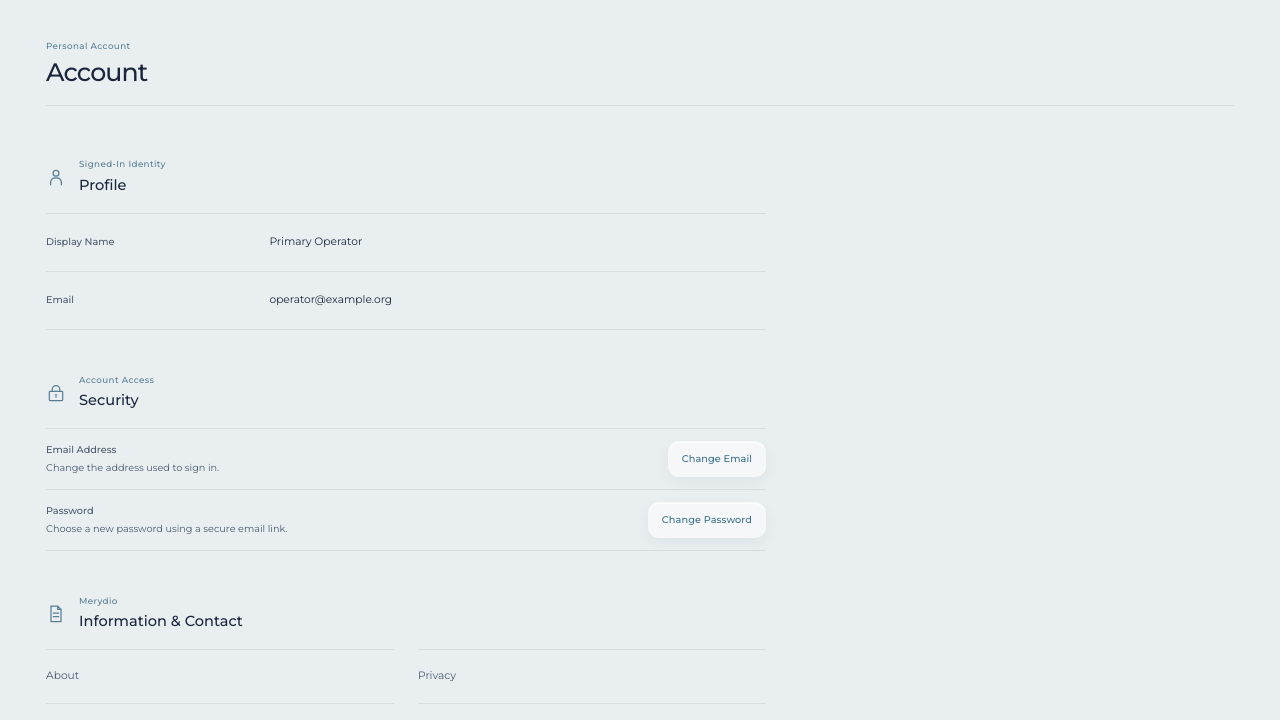
Test: account page › keeps Change Email open while a request is being submitted
This screenshot has width=1280, height=720.
Click the button "Change Email" at (717, 459), box [668, 441, 766, 477]
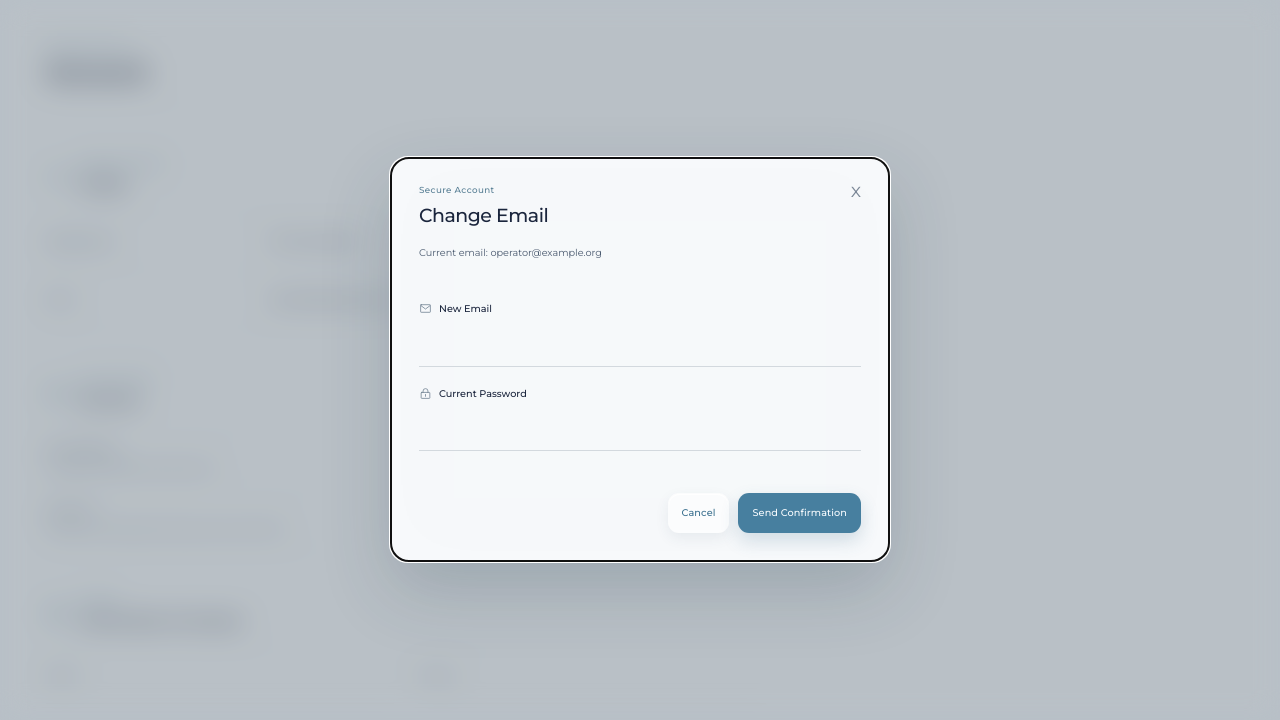
Type "new@example.org" into the field labelled "New Email" at (640, 345), box [419, 323, 861, 367]
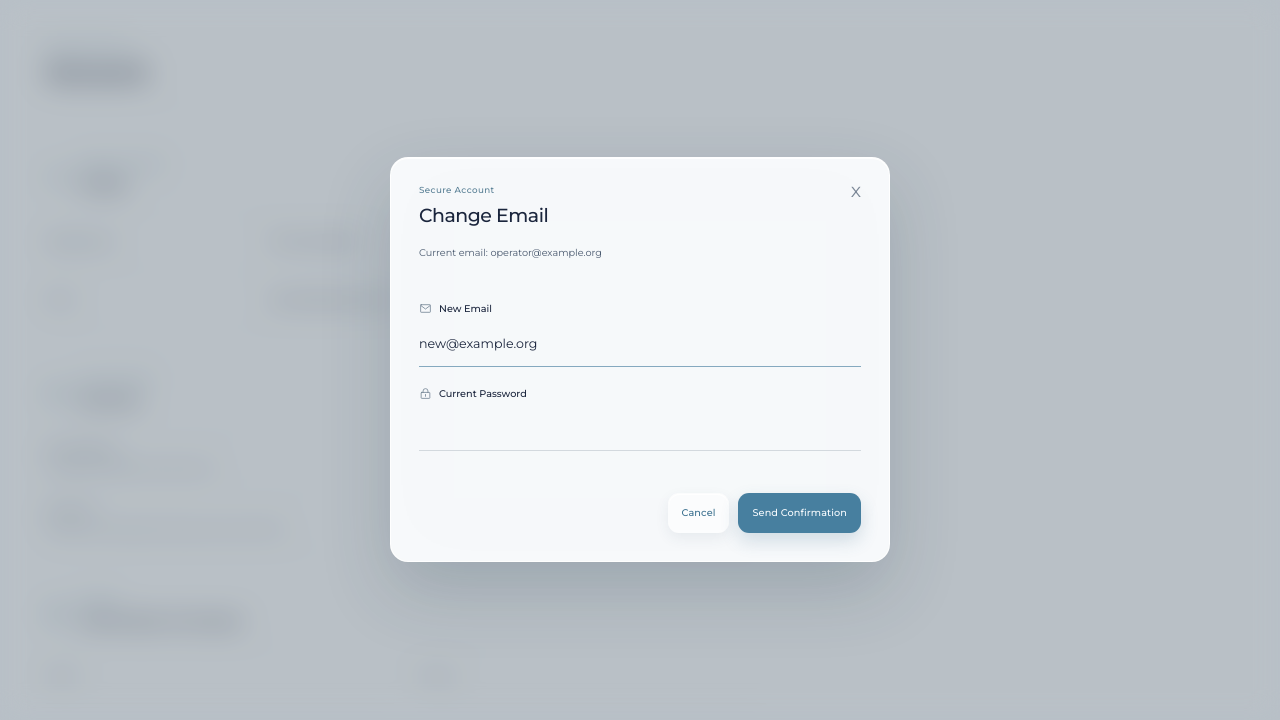
Type "current-password" into the password field labelled "Current Password" at (640, 430), box [419, 408, 861, 452]
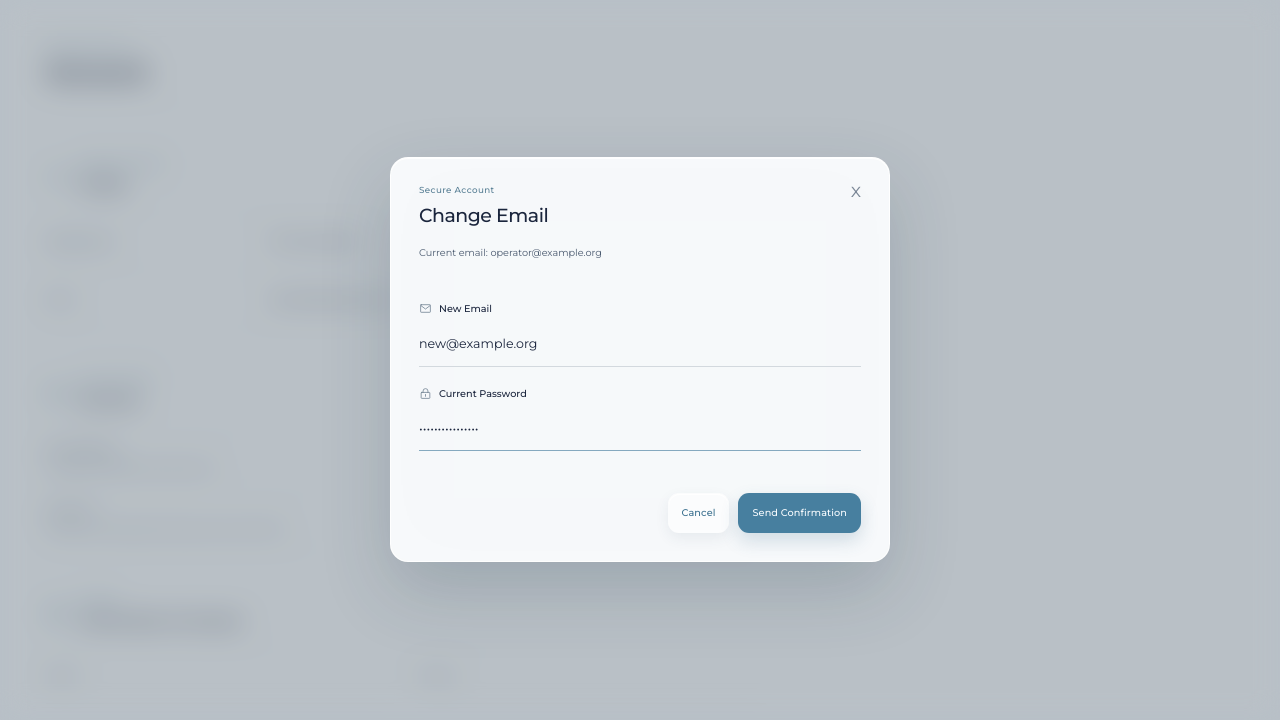
Click the button "Send Confirmation" at (800, 514), box [738, 494, 861, 534]
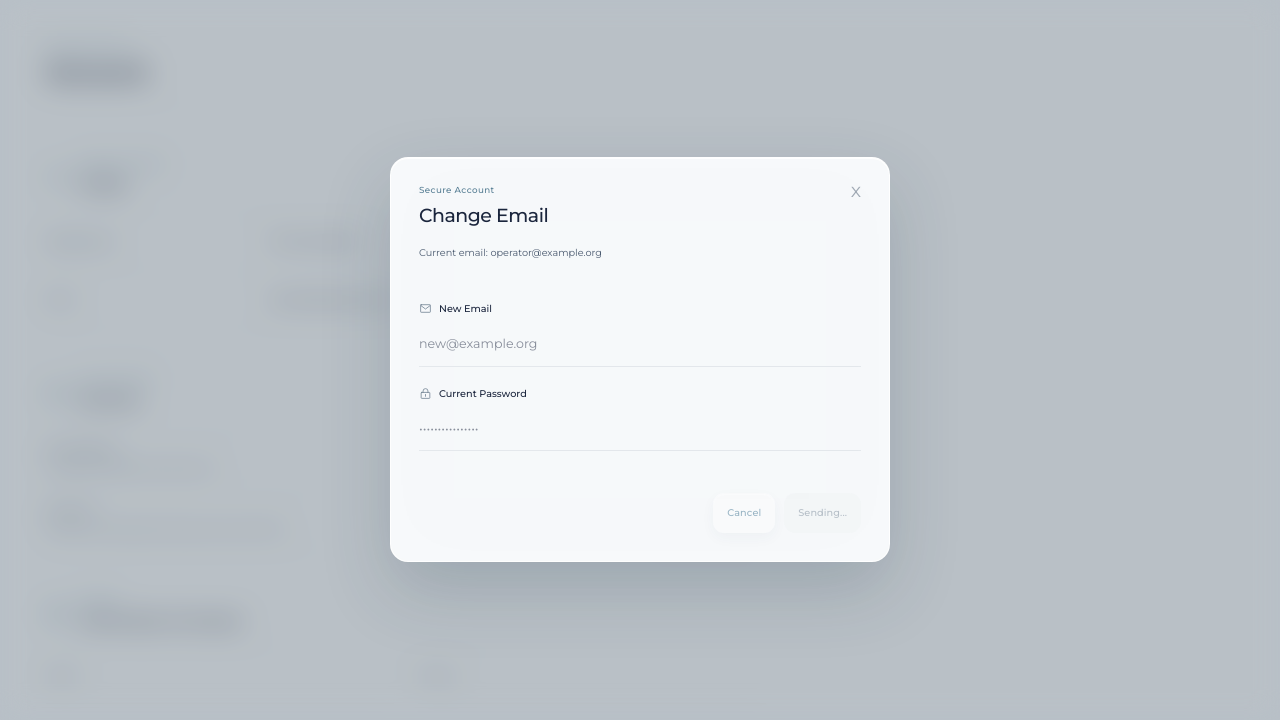
Expected: the button "Sending..." is disabled, [784, 494, 861, 534]
Press Escape
Press the mouse on the element with class "modal-backdrop" at (640, 360), box [0, 0, 1279, 719]
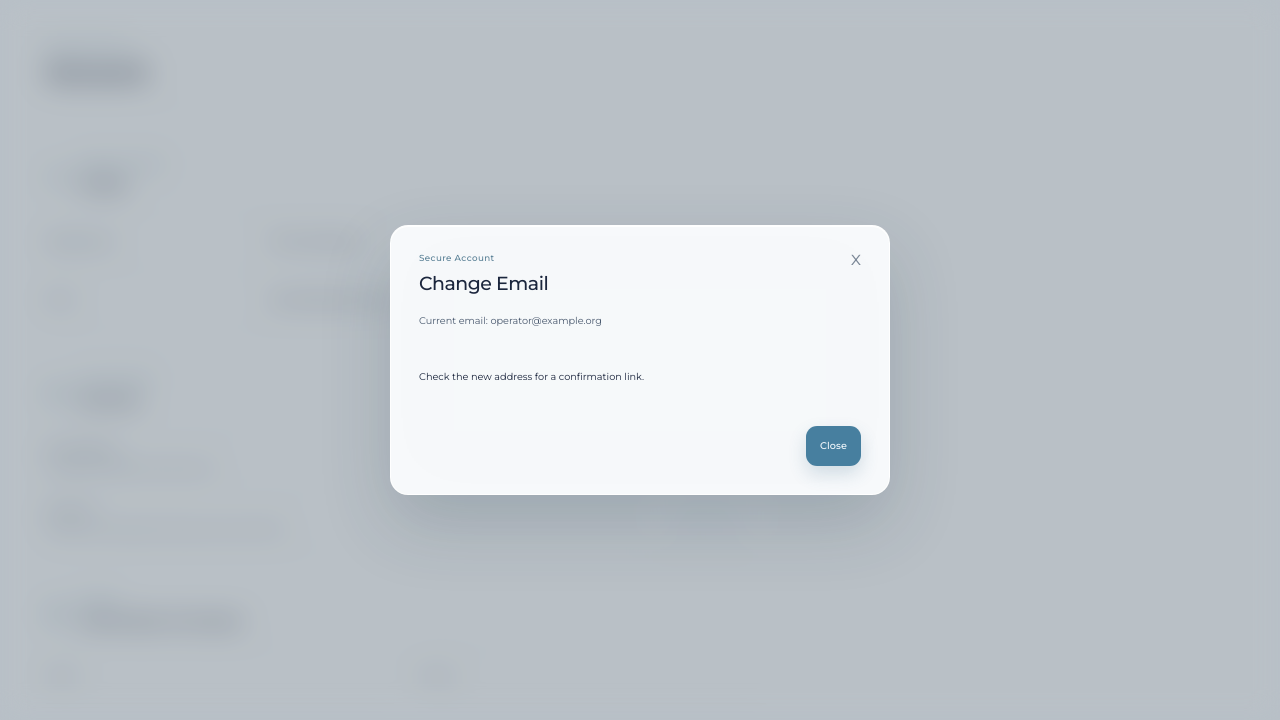
Expected: the dialog "Change Email" is shown, [390, 225, 890, 495]
Expected: the button "Close" is enabled, [806, 426, 861, 466]
